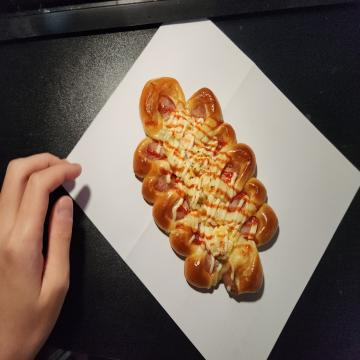pizza_bread: (135, 77, 277, 302)
